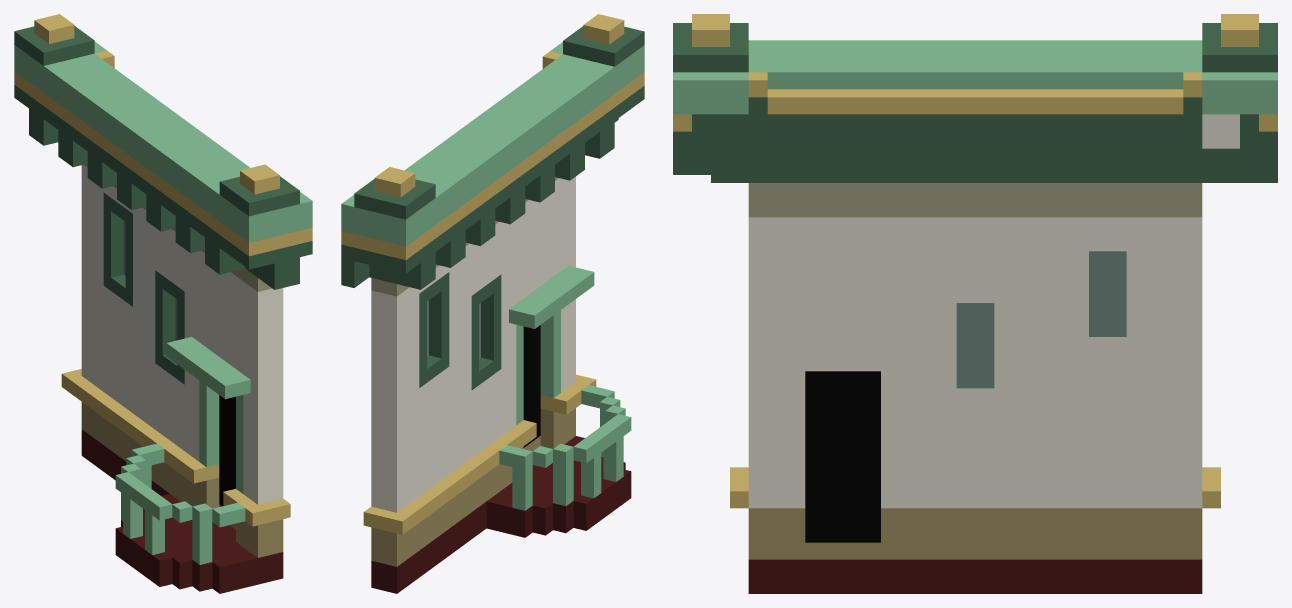
The model's file is tile_4_right.obj.
3 renders of one model, left to right at view 1: azimuth 30°, elevation 25°; view 2: azimuth 150°, elevation 25°; view 3: azimuth 270°, elevation 25°, orthographic. The views are drawn at different scales.
Bounding box in the file's own units: 0.8 × 3.2 × 3.2.
